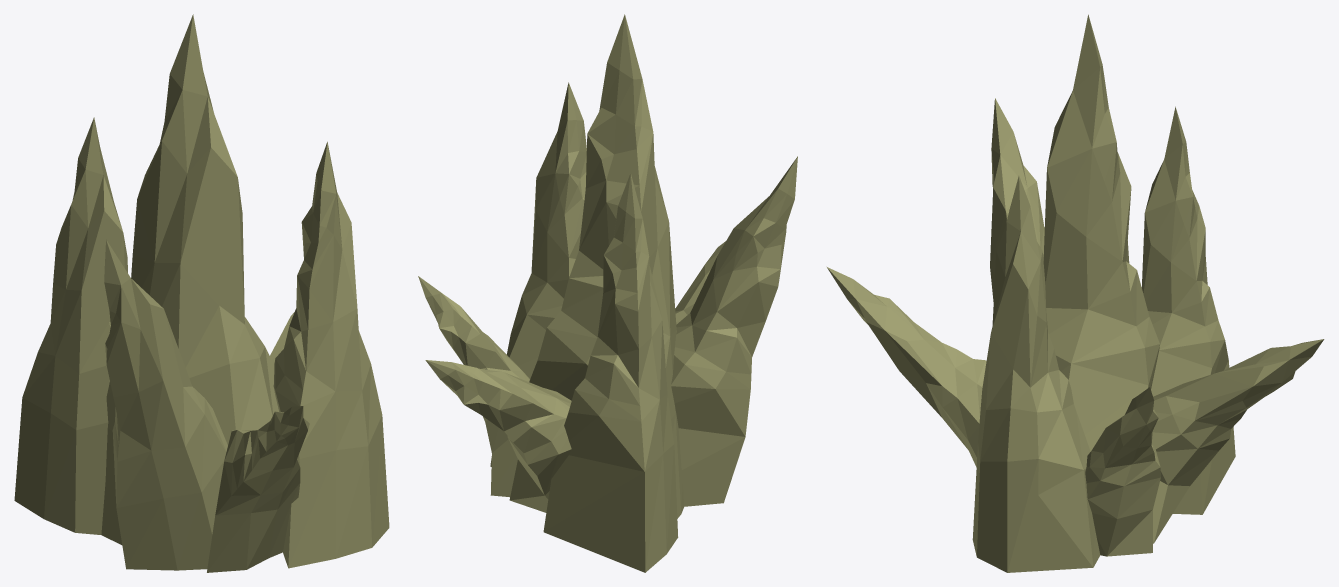
Rendered from RH_Rock04.fbx.
The picture shows the model from 3 angles, left to right: view 1: azimuth 30°, elevation 25°; view 2: azimuth 150°, elevation 25°; view 3: azimuth 270°, elevation 25°; orthographic projection. The views are drawn at different scales.
Parts seen in each view (by area): view 1: RH_Rock04; view 2: RH_Rock04; view 3: RH_Rock04.
Boxes of the visible parts, x1,y1,x2,y2 form: RH_Rock04: (14, 14, 389, 572); RH_Rock04: (418, 14, 797, 572); RH_Rock04: (827, 14, 1324, 572).
Bounding box in the file's own units: 75.34 × 115 × 106.
Materials: 1 (1 with a texture image).
